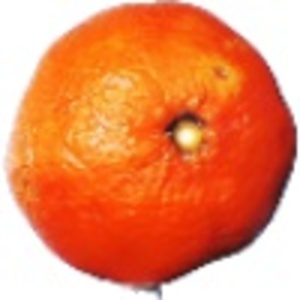tangerina: (2, 1, 299, 300)
